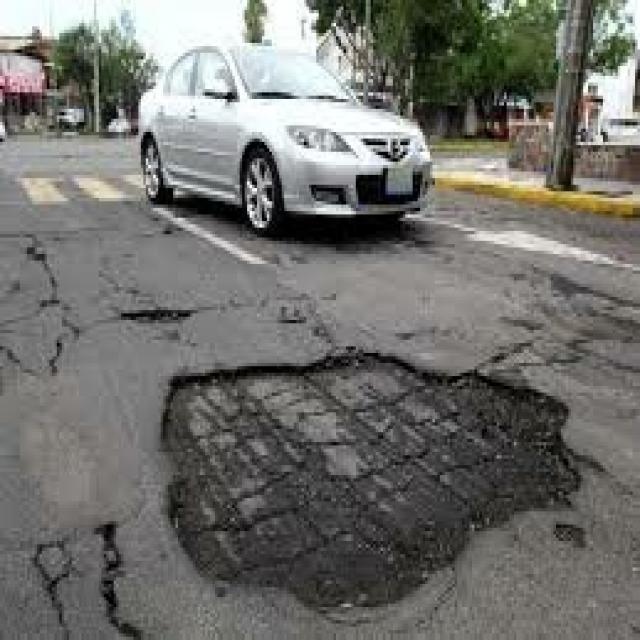Pothole: (96, 281, 586, 614)
